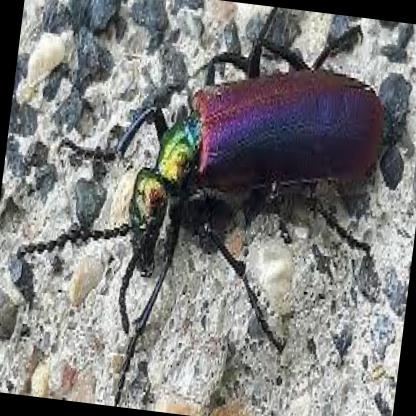blister beetle: (17, 33, 386, 399)
